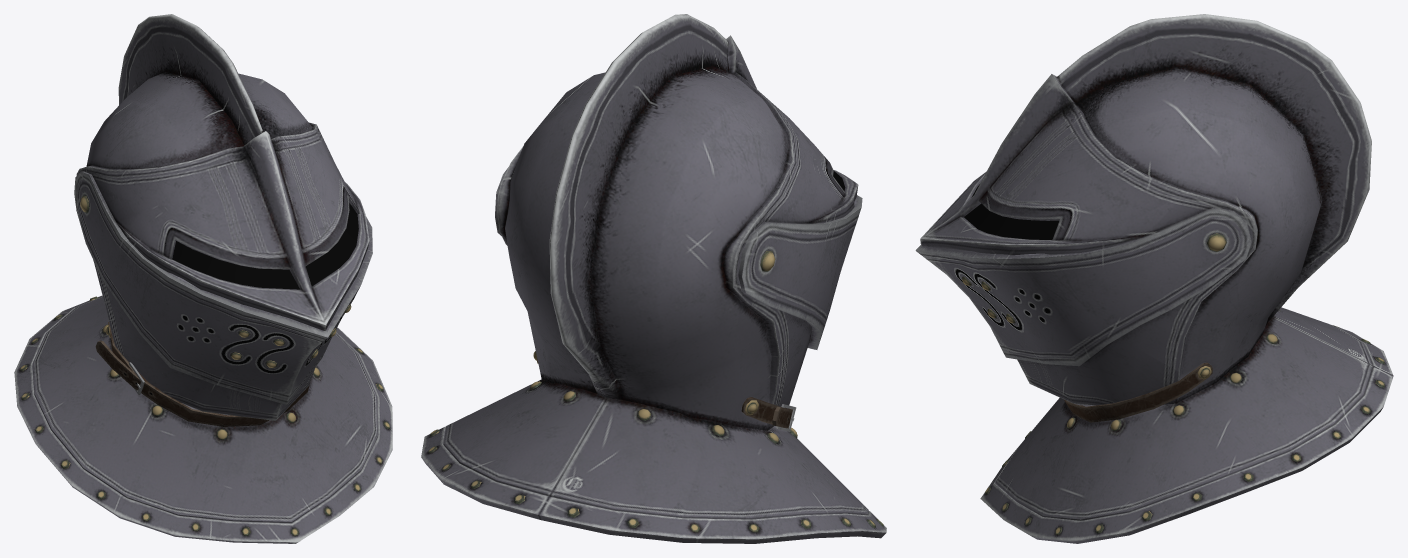
3 views of the same model, side by side, from view 1: azimuth 30°, elevation 25°; view 2: azimuth 150°, elevation 25°; view 3: azimuth 270°, elevation 25° (orthographic). The views are drawn at different scales.
Visible parts, largest first — view 1: Helm_01:MESH_Helm; view 2: Helm_01:MESH_Helm; view 3: Helm_01:MESH_Helm.
Part boxes in pixels (x1,y1,x2,y2): Helm_01:MESH_Helm: (14,14,392,543); Helm_01:MESH_Helm: (421,14,886,543); Helm_01:MESH_Helm: (915,14,1393,543).
Bounding box in the file's own units: 3.15 × 3.97 × 3.52.
